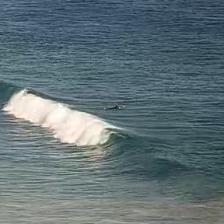surfer: (107, 106, 122, 111)
